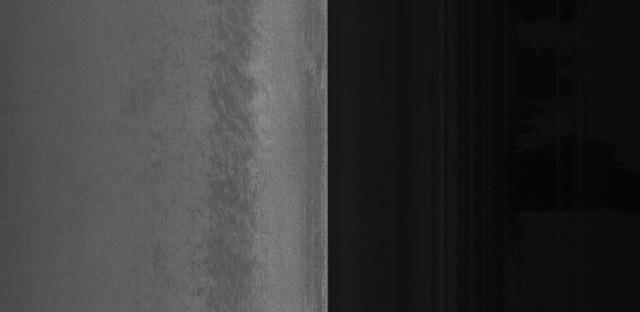silk_spot: (205, 67, 258, 243)
